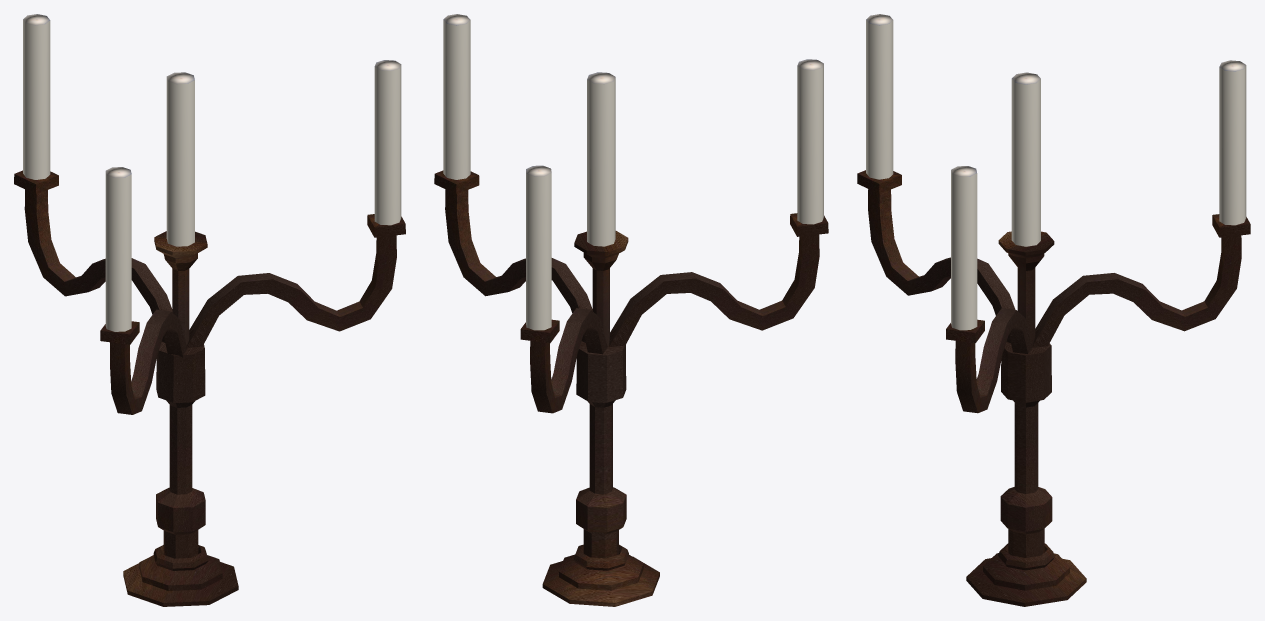
3 views of the same model, side by side, from view 1: azimuth 30°, elevation 25°; view 2: azimuth 150°, elevation 25°; view 3: azimuth 270°, elevation 25° (orthographic).
Visible parts, largest first — view 1: group4_pCube2; view 2: group4_pCube2; view 3: group4_pCube2.
Part boxes in pixels (x1,y1,x2,y2): group4_pCube2: [14, 14, 405, 606]; group4_pCube2: [434, 14, 828, 606]; group4_pCube2: [857, 14, 1250, 606].
Bounding box in the file's own units: 0.3808 × 0.5298 × 0.3756.
1 material, 1 textured.
